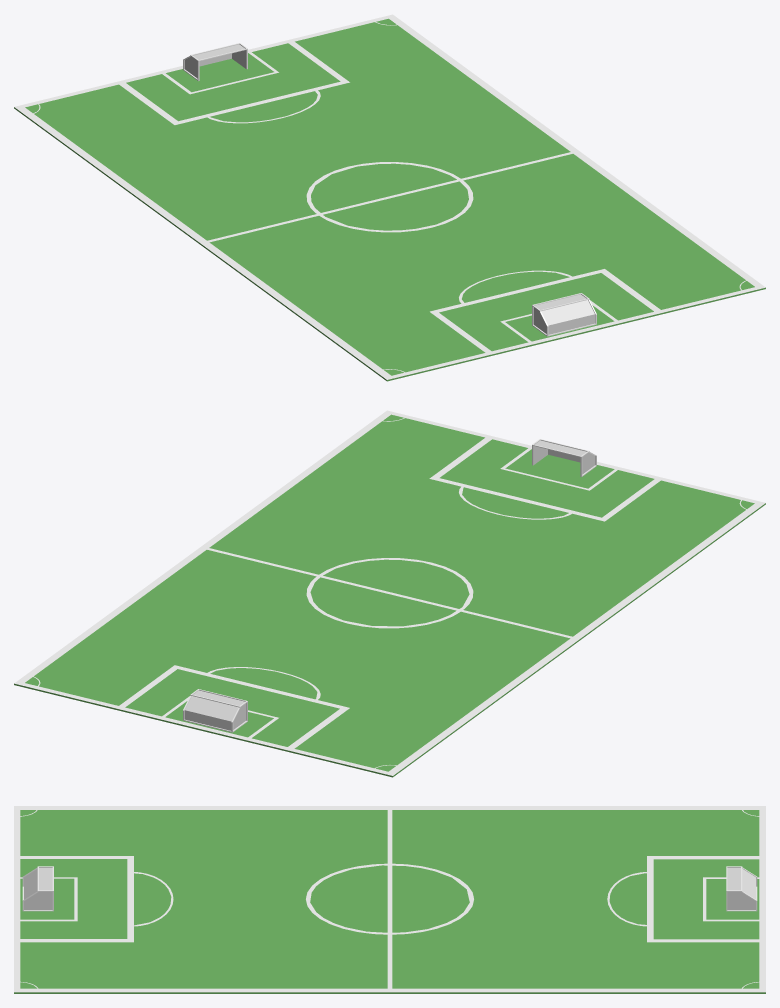
The model's file is SoccerField.gltf.
3 renders of one model, top to bottom at view 1: azimuth 30°, elevation 25°; view 2: azimuth 150°, elevation 25°; view 3: azimuth 270°, elevation 25°, orthographic.
Visible parts, largest first — view 1: Soccer Field, Soccer Goal.001, Soccer Goal; view 2: Soccer Field, Soccer Goal, Soccer Goal.001; view 3: Soccer Field, Soccer Goal, Soccer Goal.001.
Part boxes in pixels (box(x1,y1,x2,y2)): Soccer Field: box(14, 14, 765, 381); Soccer Goal.001: box(532, 293, 596, 336); Soccer Goal: box(183, 43, 247, 80); Soccer Field: box(14, 410, 765, 777); Soccer Goal: box(183, 689, 247, 732); Soccer Goal.001: box(532, 439, 596, 476); Soccer Field: box(14, 806, 765, 993); Soccer Goal: box(726, 866, 757, 911); Soccer Goal.001: box(22, 866, 53, 911).
Size of the model in its own units: 40.19 by 2.21 by 68.55.
